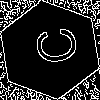C: (25, 25, 79, 68)
